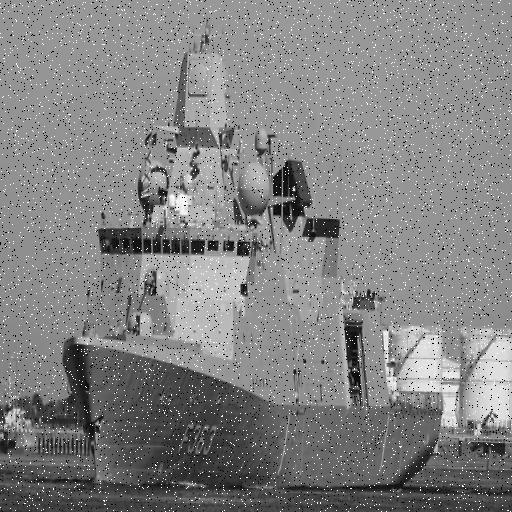Fragata: (61, 10, 446, 495)
